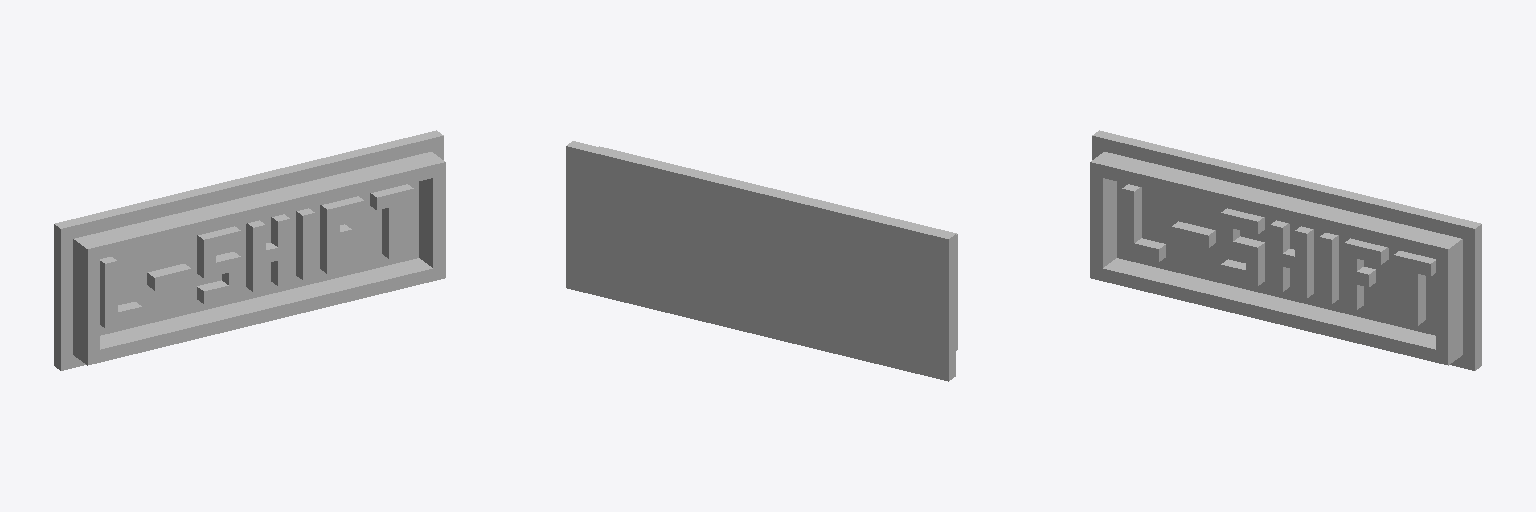
Rendered from L-SHIFT.obj.
3 renders of one model, left to right at view 1: azimuth 30°, elevation 25°; view 2: azimuth 150°, elevation 25°; view 3: azimuth 330°, elevation 25°, orthographic.
Visible parts, largest first — view 1: object 1; view 2: object 1; view 3: object 1.
Part boxes in pixels (x1,y1,x2,y2): object 1: (54, 130, 445, 370); object 1: (566, 141, 957, 381); object 1: (1090, 130, 1481, 370).
Bounding box in the file's own units: 3.1 × 1.1 × 0.3.